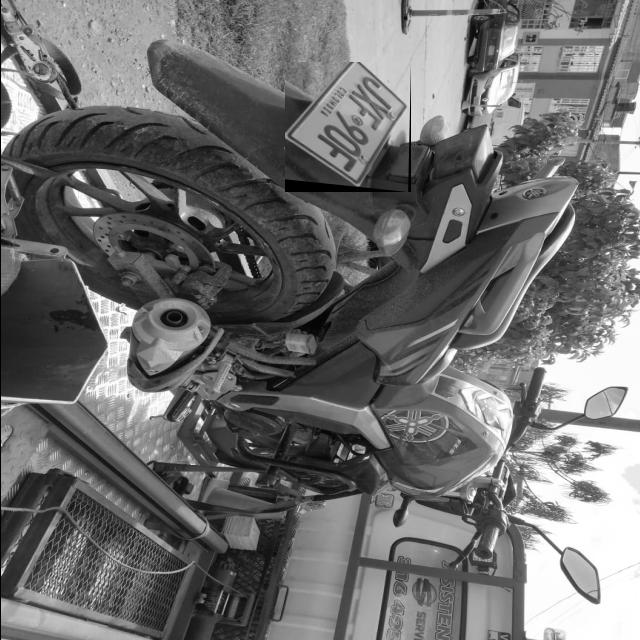plate: (284, 62, 409, 188)
